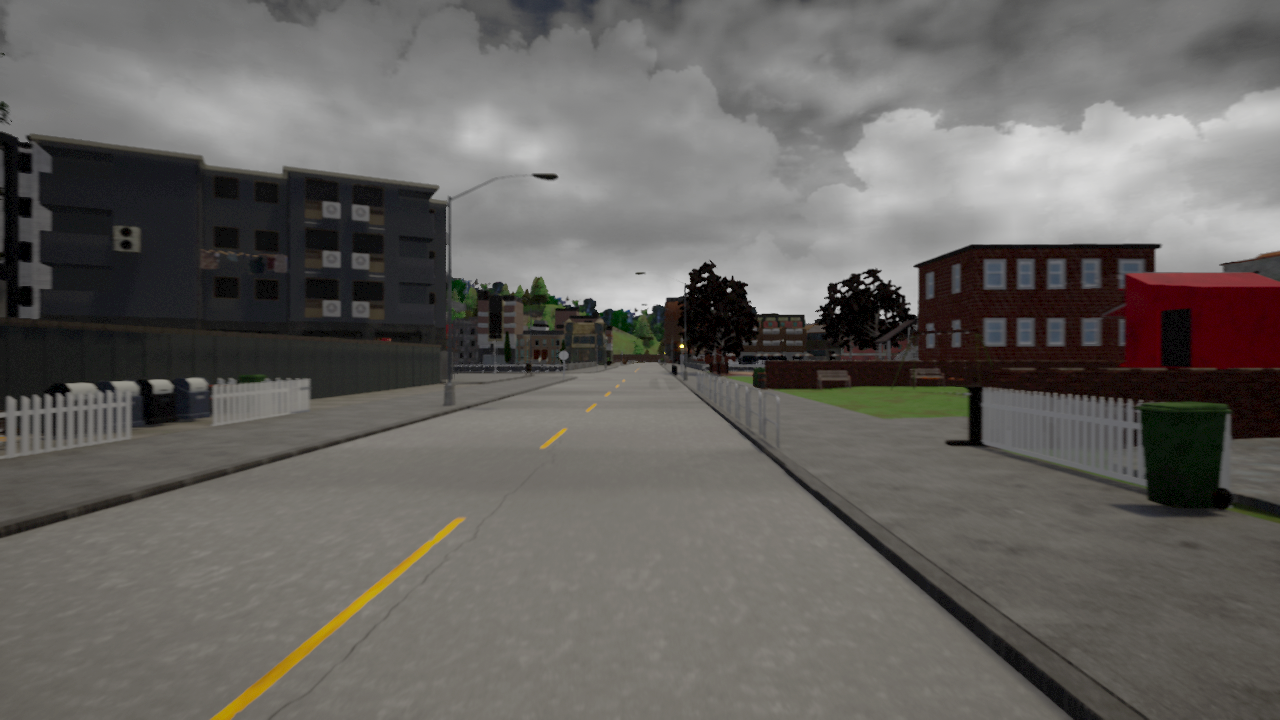yellow: (679, 341, 685, 356)
